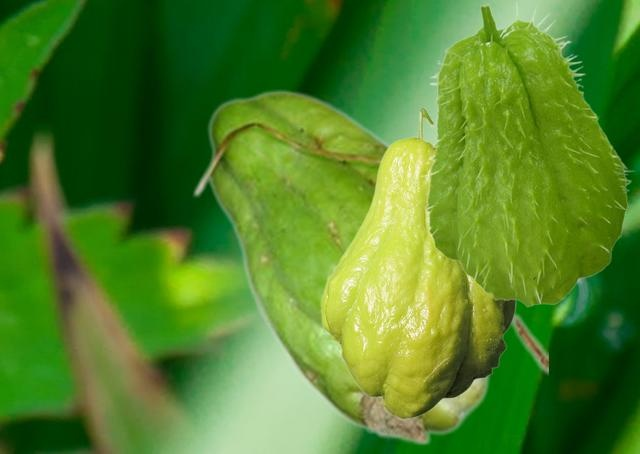sayote: (191, 89, 547, 445), (420, 0, 633, 306), (320, 107, 515, 418)
